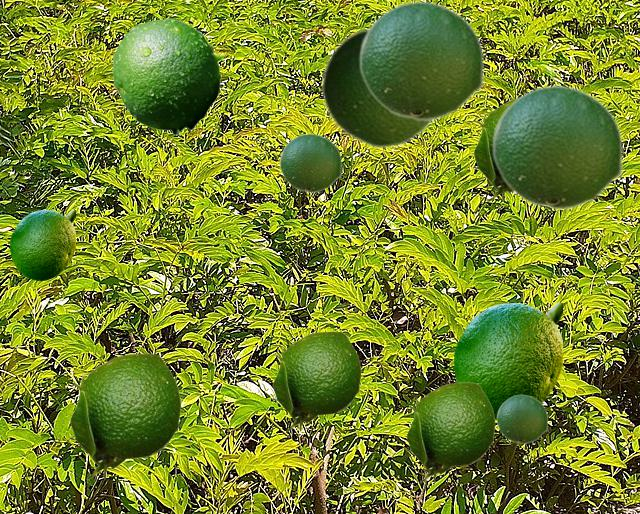dalandan: (491, 84, 623, 210), (358, 0, 484, 121), (320, 24, 436, 149), (68, 353, 180, 479), (112, 18, 224, 134), (454, 303, 561, 419), (271, 331, 360, 431), (405, 382, 494, 482), (10, 210, 74, 279), (472, 98, 514, 201), (279, 133, 341, 192), (496, 394, 547, 443)
